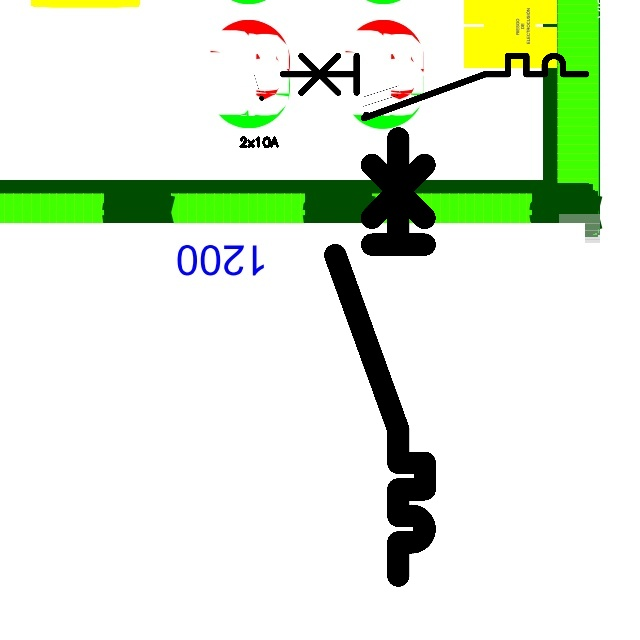interruptor_termomagnetico: (324, 127, 436, 587), (275, 48, 594, 126)
